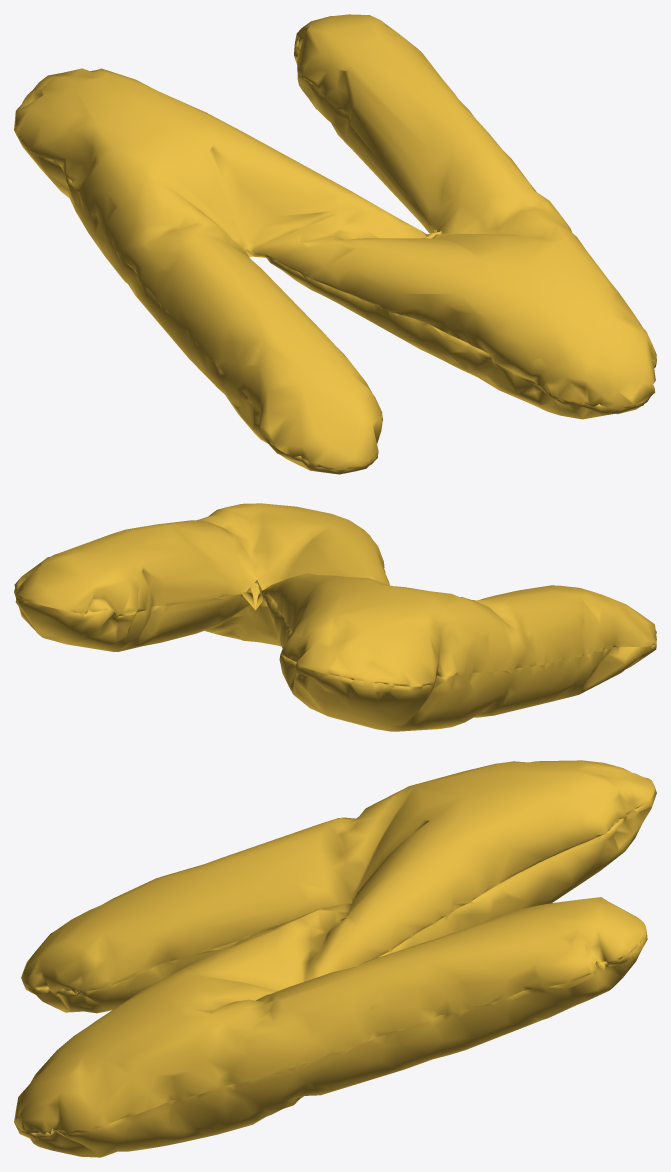
Rendered from Ballon_N_slitelly_tilted.fbx.
3 renders of one model, top to bottom at view 1: azimuth 30°, elevation 25°; view 2: azimuth 150°, elevation 25°; view 3: azimuth 270°, elevation 25°, orthographic. The views are drawn at different scales.
Parts seen in each view (by area): view 1: N; view 2: N; view 3: N.
Part boxes in pixels (<box>): N: <box>14,14,656,474</box>; N: <box>14,503,656,731</box>; N: <box>14,760,656,1157</box>.
Bounding box in the file's own units: 49.13 × 26.46 × 64.01.
